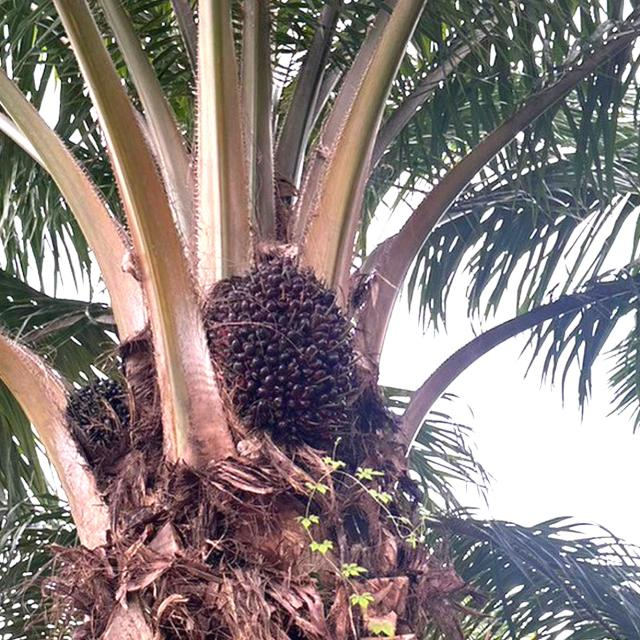ripe: (192, 233, 377, 457)
